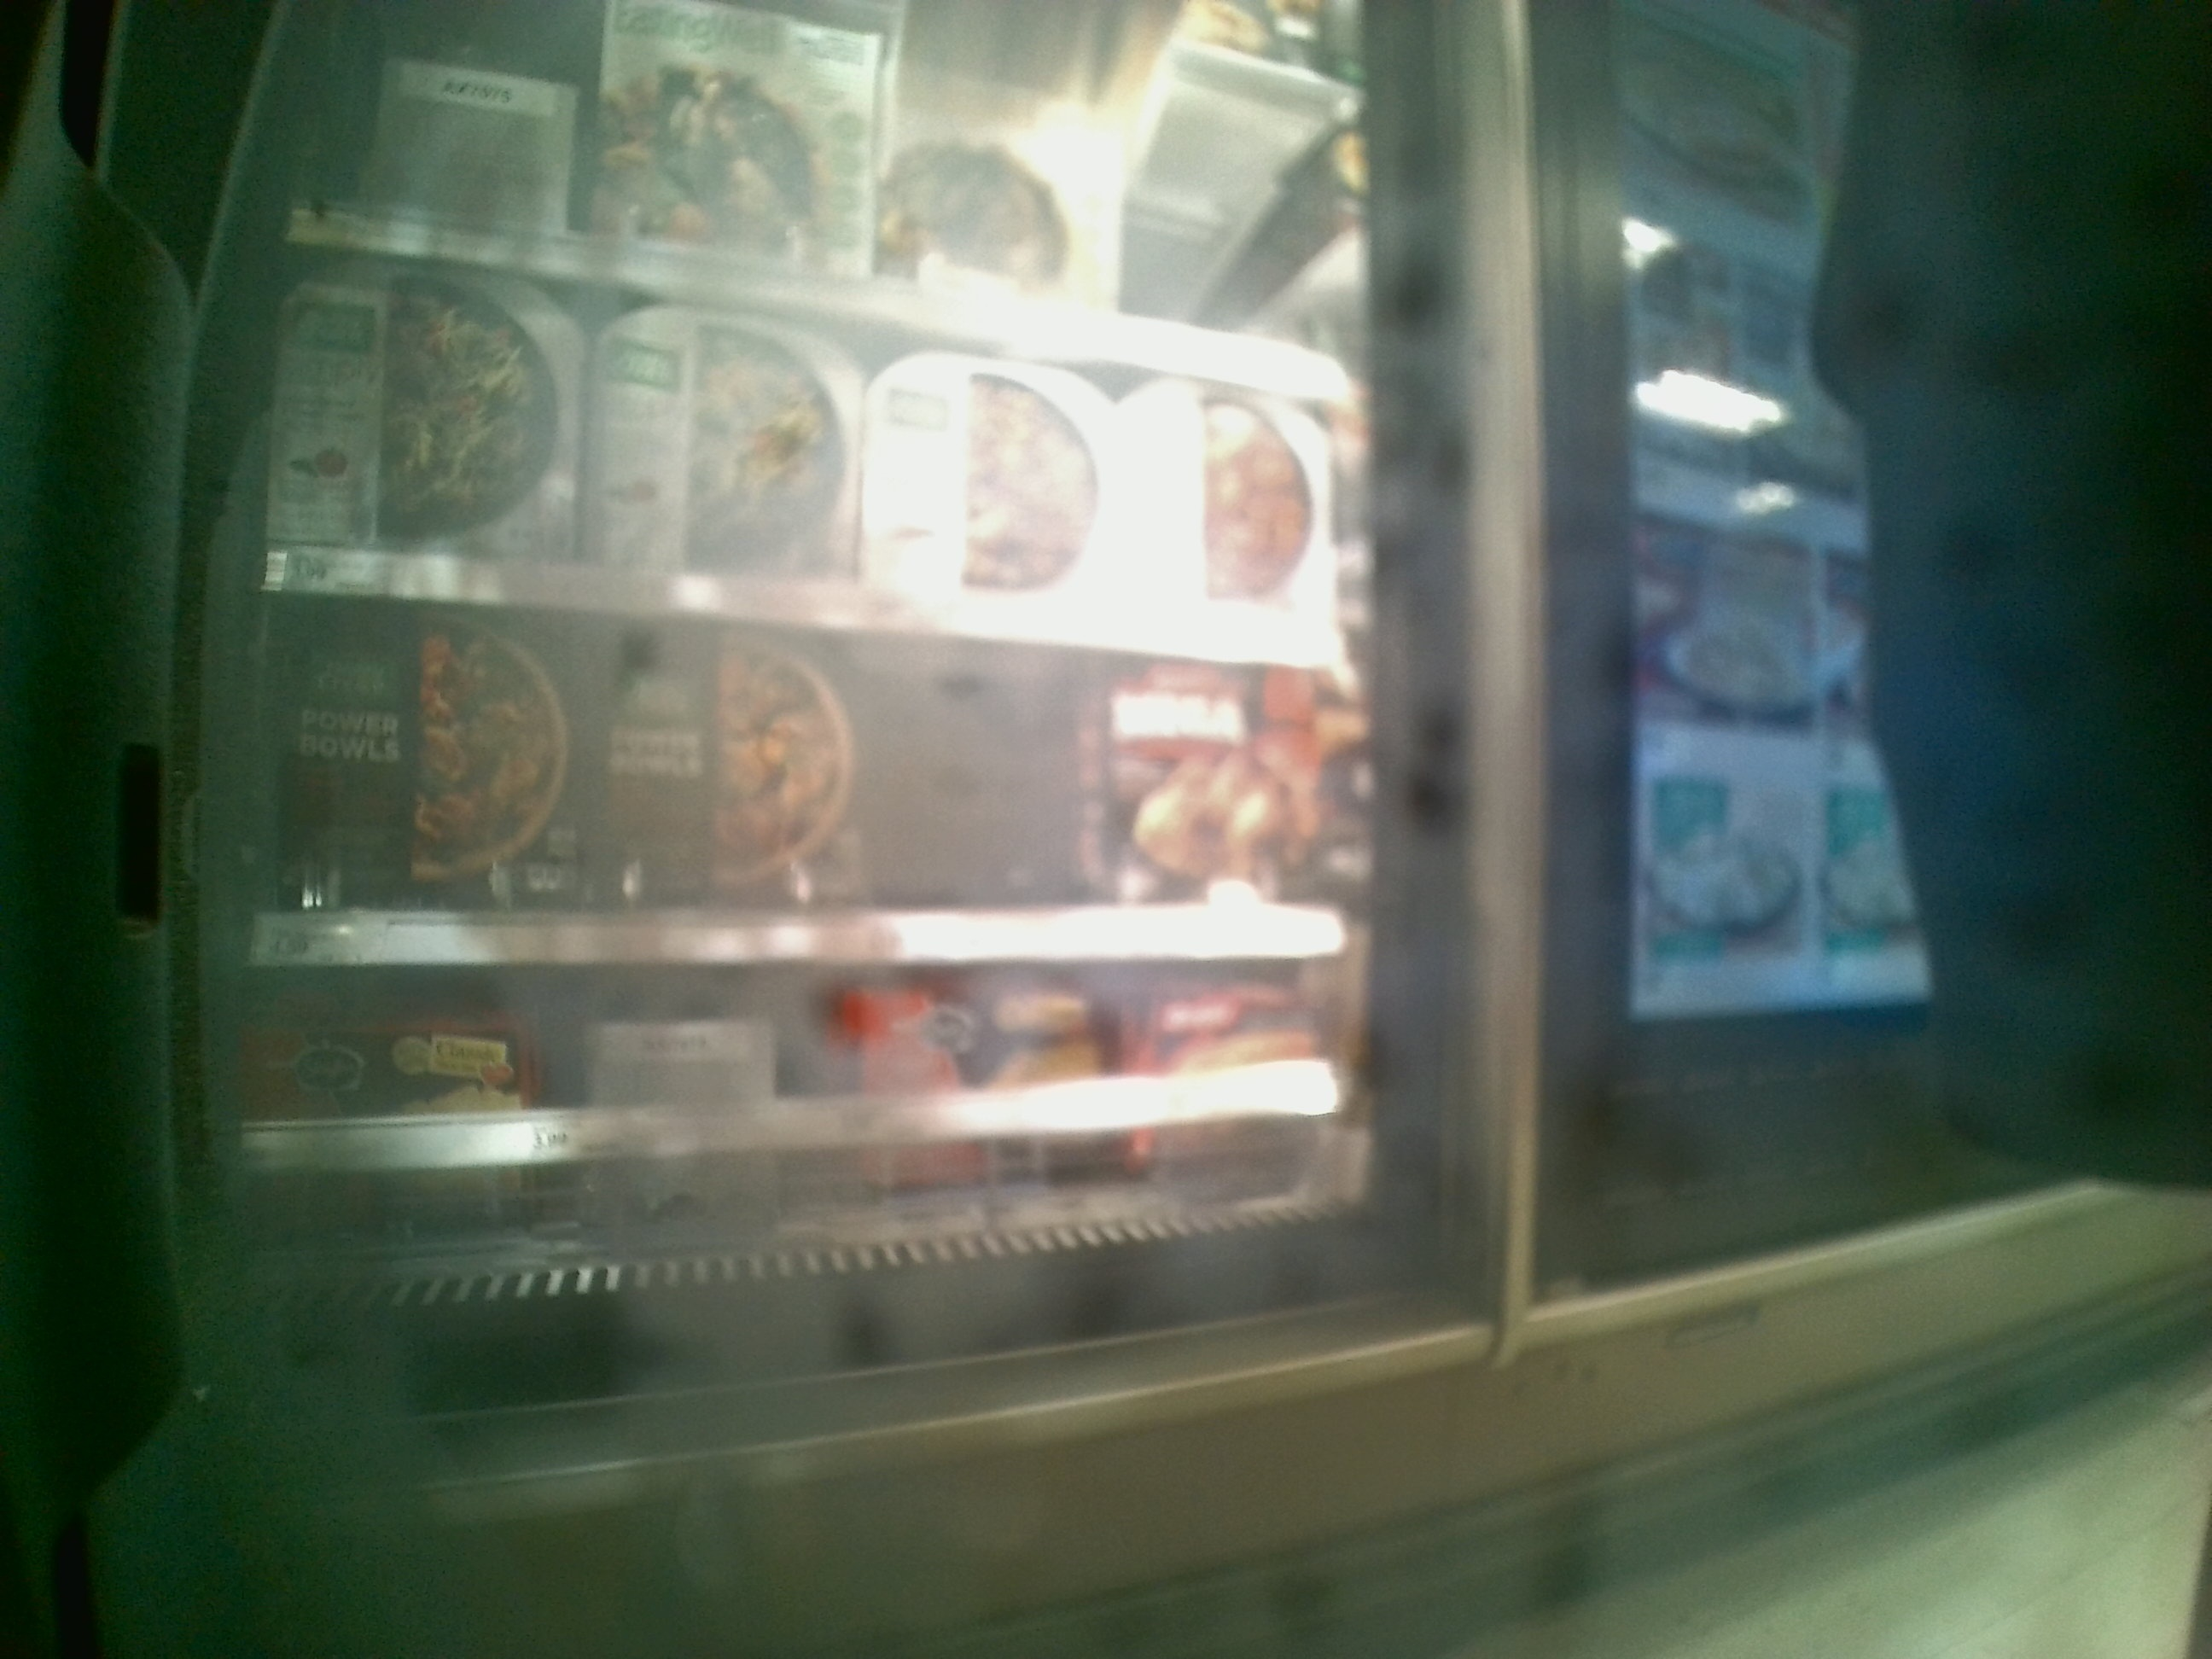shelf: (279, 235, 1359, 673), (263, 599, 1366, 971)
